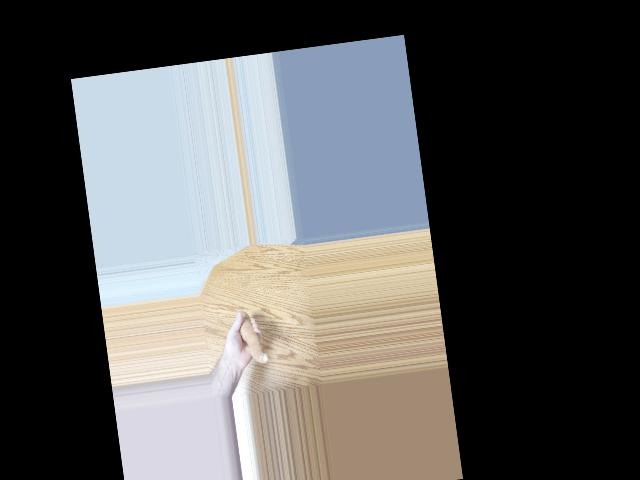sweet_potato: (236, 306, 268, 369)
